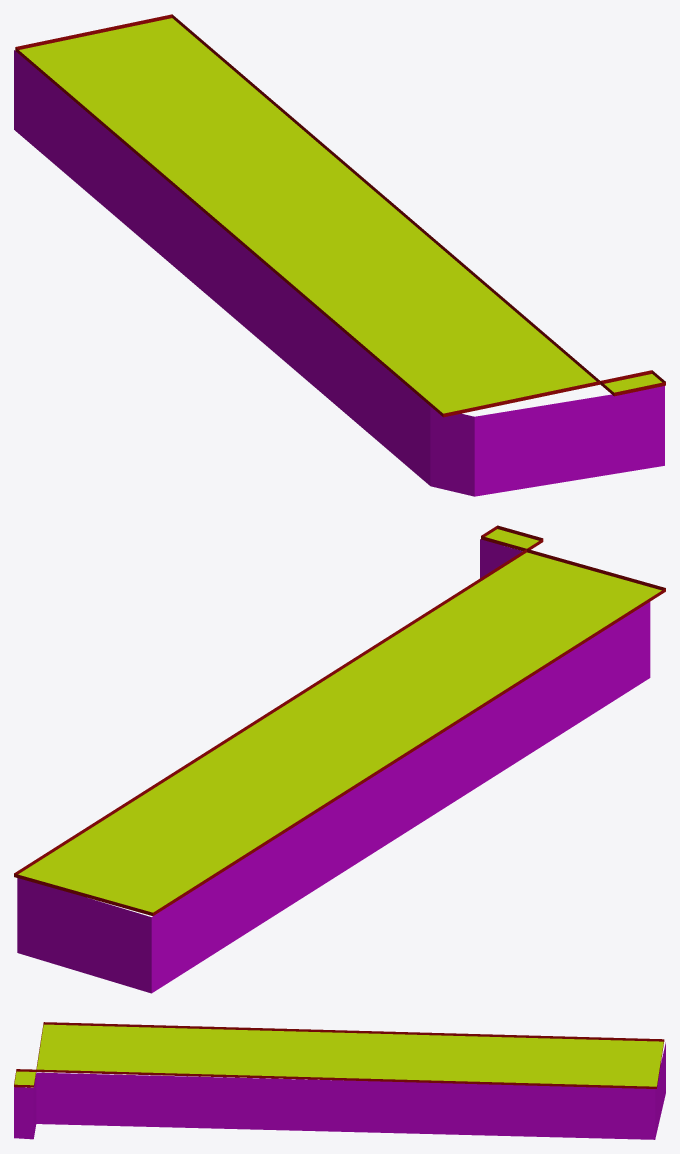
Rendered from bgj_174.glb.
3 views of the same model, one above another, from view 1: azimuth 30°, elevation 25°; view 2: azimuth 150°, elevation 25°; view 3: azimuth 270°, elevation 25° (orthographic). The views are drawn at different scales.
Visible parts, largest first — view 1: bgj_174; view 2: bgj_174; view 3: bgj_174.
Part boxes in pixels (box(x1,y1,x2,y2)): bgj_174: box(14, 14, 665, 496); bgj_174: box(14, 525, 665, 993); bgj_174: box(14, 1022, 665, 1139).
Bounding box in the file's own units: 20.09 × 7.8 × 85.71.
